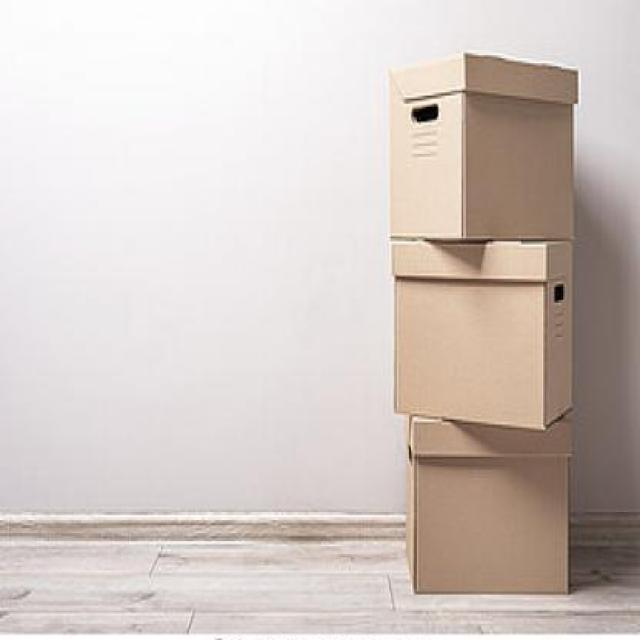box: (376, 226, 593, 430), (380, 48, 588, 255), (397, 401, 578, 605)
